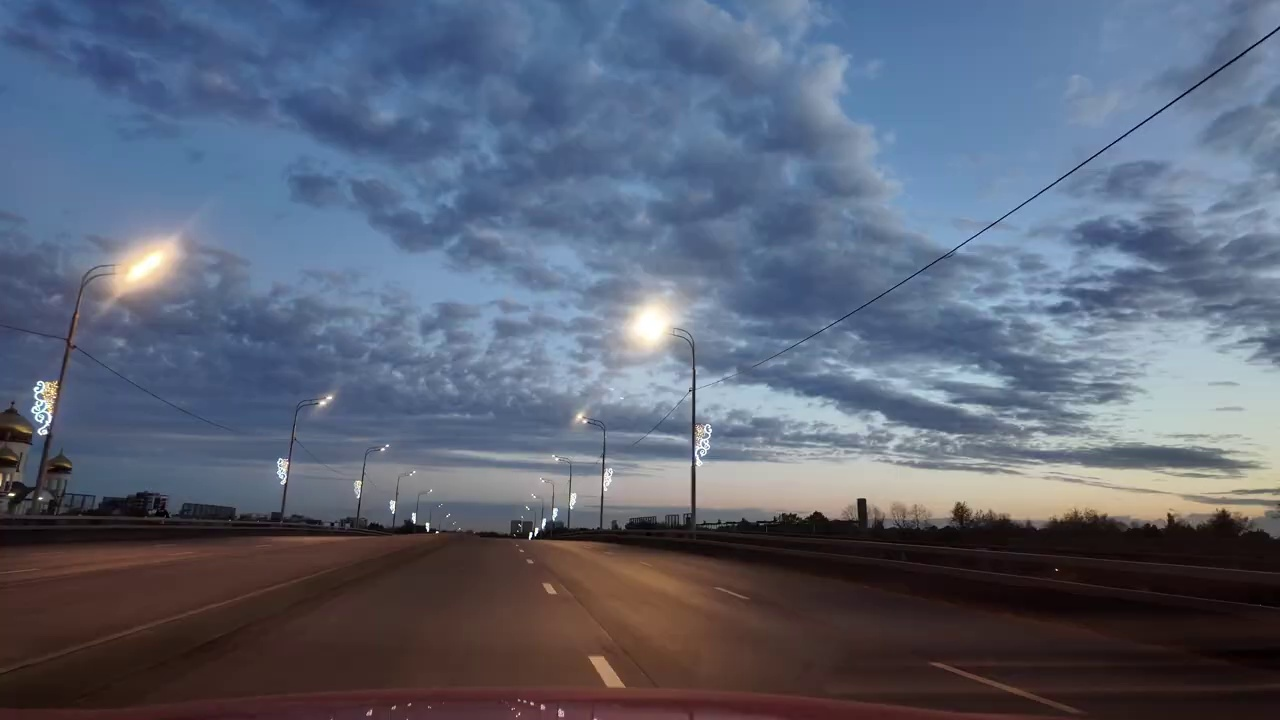acesa: (115, 240, 178, 293), (628, 300, 674, 352), (310, 388, 338, 417), (570, 406, 594, 432)
